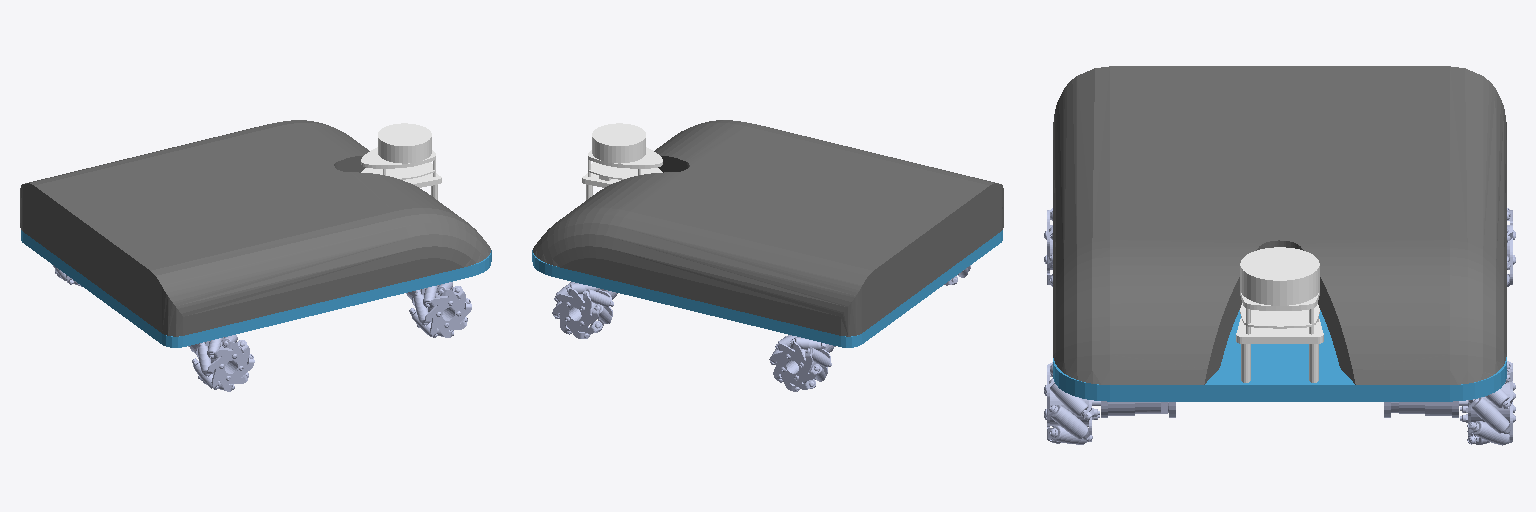
--- Facts derived from the render (not from the file) ---
The picture shows the robot from 3 angles, left to right: view 1: azimuth 30°, elevation 25°; view 2: azimuth 150°, elevation 25°; view 3: azimuth 270°, elevation 25°; orthographic projection.
Robot: rubot_mecanum — 19 links, 18 joints (4 continuous, 1 prismatic, 13 fixed); root link base_footprint; default pose: all joints at 0.
Links seen in each view (by area): view 1: Coberta_Link, base_link, Lidar_Link, R2_Link, R1_Link; view 2: Coberta_Link, base_link, Lidar_Link, L2_Link, L1_Link; view 3: Coberta_Link, base_link, Lidar_Link, L1_Link, R1_Link, SuportLidar_Link, MR1_Link, ML1_Link.
Boxes of the visible links, box(x1,y1,x2,y2) form: Coberta_Link: box(20, 120, 490, 336); base_link: box(21, 230, 491, 347); Lidar_Link: box(361, 123, 435, 179); R2_Link: box(192, 335, 254, 391); R1_Link: box(409, 282, 471, 337); Coberta_Link: box(533, 120, 1003, 336); base_link: box(532, 230, 1002, 347); Lidar_Link: box(588, 123, 662, 180); L2_Link: box(769, 335, 831, 391); L1_Link: box(552, 282, 613, 338); Coberta_Link: box(1053, 66, 1506, 384); base_link: box(1053, 310, 1506, 401); Lidar_Link: box(1240, 247, 1319, 334); L1_Link: box(1460, 361, 1515, 445); R1_Link: box(1044, 362, 1099, 444); SuportLidar_Link: box(1236, 318, 1323, 382); MR1_Link: box(1092, 400, 1168, 415); ML1_Link: box(1391, 400, 1467, 415).
Bounding box of the posed robot: 0.5 × 0.4155 × 0.1976 m (x, y, z).
Meshes: 18 distinct files referenced, 18 mesh visuals loaded (18 binary STL).

The robot description file, URDF, robot "rubot_mecanum":
<?xml version="1.0" encoding="utf-8"?>
<!-- This URDF was automatically created by SolidWorks to URDF Exporter! Originally created by Stephen Brawner ([email redacted]) 
     Commit Version: 1.6.0-1-g15f4949  Build Version: 1.6.7594.29634
     For more information, please see http://wiki.ros.org/sw_urdf_exporter -->
<robot name="rubot_mecanum">
  <link name="base_footprint"/>
  <joint name="base_link_joint" type="fixed">
    <origin rpy="0 0 0" xyz="0 0 0.05"/>
    <parent link="base_footprint"/>
    <child link="base_link"/>
  </joint>

  <link
    name="base_link">
    <inertial>
      <origin
        xyz="0.027358779894703 -0.0197603692535836 -0.100882644576948"
        rpy="0 0 0" />
      <mass
        value="3.18539354368186" />
      <inertia
        ixx="0.0106842818448098"
        ixy="-5.71916645986104E-18"
        ixz="-7.33657587264312E-18"
        iyy="0.0166285557560687"
        iyz="-1.02898300437928E-07"
        izz="0.0271752644394761" />
    </inertial>
    <visual>
      <origin
        xyz="0 0 0"
        rpy="0 0 0" />
      <geometry>
        <mesh
          filename="package://rubot_mecanum/meshes/base_link.STL" />
      </geometry>
      <material
        name="yellow"/>
    </visual>
    <collision>
      <origin
        xyz="0 0 0"
        rpy="0 0 0" />
      <geometry>
        <mesh
          filename="package://rubot_mecanum/meshes/base_link.STL" />
      </geometry>
    </collision>
  </link>
  <link
    name="R1_Link">
    <inertial>
      <origin
        xyz="-1.138E-15 -1.3878E-16 0.026605"
        rpy="0 0 0" />
      <mass
        value="0.10143" />
      <inertia
        ixx="1.7366E-05"
        ixy="9.2936E-18"
        ixz="-2.8624E-18"
        iyy="1.7366E-05"
        iyz="1.193E-17"
        izz="2.1022E-05" />
    </inertial>
    <visual>
      <origin
        xyz="0 0 0"
        rpy="0 0 0" />
      <geometry>
        <mesh
          filename="package://rubot_mecanum/meshes/R1_Link.STL" />
      </geometry>
      <material
        name="">
        <color
          rgba="0.79216 0.81961 0.93333 1" />
      </material>
    </visual>
    <collision>
      <origin
        xyz="0 0 0"
        rpy="0 0 0" />
      <geometry>
        <mesh
          filename="package://rubot_mecanum/meshes/R1_Link.STL" />
      </geometry>
    </collision>
  </link>
  <joint
    name="joint_R1"
    type="continuous">
    <origin
      xyz="0.19024 -0.17854 -0.15093"
      rpy="-1.5708 0.58045 3.1416" />
    <parent
      link="base_link" />
    <child
      link="R1_Link" />
    <axis
      xyz="0 0 1" />
  </joint>
  <link
    name="L1_Link">
    <inertial>
      <origin
        xyz="-2.91433543964104E-15 -3.02535774210355E-15 0.0266049351953702"
        rpy="0 0 0" />
      <mass
        value="0.101433683220293" />
      <inertia
        ixx="1.73656014589032E-05"
        ixy="1.22041565831584E-18"
        ixz="3.98859767479316E-18"
        iyy="1.73656014589116E-05"
        iyz="2.51536033083007E-18"
        izz="2.10216674226564E-05" />
    </inertial>
    <visual>
      <origin
        xyz="0 0 0"
        rpy="0 0 0" />
      <geometry>
        <mesh
          filename="package://rubot_mecanum/meshes/L1_Link.STL" />
      </geometry>
      <material
        name="">
        <color
          rgba="0.792156862745098 0.819607843137255 0.933333333333333 1" />
      </material>
    </visual>
    <collision>
      <origin
        xyz="0 0 0"
        rpy="0 0 0" />
      <geometry>
        <mesh
          filename="package://rubot_mecanum/meshes/L1_Link.STL" />
      </geometry>
    </collision>
  </link>
  <joint
    name="joint_L1"
    type="continuous">
    <origin
      xyz="0.19024 0.13902 -0.15093"
      rpy="-1.5708 1.5286 0" />
    <parent
      link="base_link" />
    <child
      link="L1_Link" />
    <axis
      xyz="0 0 1" />
  </joint>
  <link
    name="R2_Link">
    <inertial>
      <origin
        xyz="2.22044604925031E-15 -6.93889390390723E-16 0.0266049351956469"
        rpy="0 0 0" />
      <mass
        value="0.101433683215874" />
      <inertia
        ixx="1.73656014588276E-05"
        ixy="-3.60243112467254E-18"
        ixz="-9.16323392260164E-18"
        iyy="1.73656014588365E-05"
        iyz="2.27555013761854E-17"
        izz="2.10216674226847E-05" />
    </inertial>
    <visual>
      <origin
        xyz="0 0 0"
        rpy="0 0 0" />
      <geometry>
        <mesh
          filename="package://rubot_mecanum/meshes/R2_Link.STL" />
      </geometry>
      <material
        name="">
        <color
          rgba="0.792156862745098 0.819607843137255 0.933333333333333 1" />
      </material>
    </visual>
    <collision>
      <origin
        xyz="0 0 0"
        rpy="0 0 0" />
      <geometry>
        <mesh
          filename="package://rubot_mecanum/meshes/R2_Link.STL" />
      </geometry>
    </collision>
  </link>
  <joint
    name="joint_R2"
    type="continuous">
    <origin
      xyz="-0.13336 -0.17854 -0.15093"
      rpy="-1.5708 0.79452 3.1416" />
    <parent
      link="base_link" />
    <child
      link="R2_Link" />
    <axis
      xyz="0 0 1" />
  </joint>
  <link
    name="L2_Link">
    <inertial>
      <origin
        xyz="-2.77555756156289E-17 1.11022302462516E-16 0.0266049351954913"
        rpy="0 0 0" />
      <mass
        value="0.101433683216509" />
      <inertia
        ixx="1.73656014587943E-05"
        ixy="3.81842452622239E-18"
        ixz="-7.11348460007026E-18"
        iyy="1.73656014587947E-05"
        iyz="-8.24630865852679E-18"
        izz="2.10216674226438E-05" />
    </inertial>
    <visual>
      <origin
        xyz="0 0 0"
        rpy="0 0 0" />
      <geometry>
        <mesh
          filename="package://rubot_mecanum/meshes/L2_Link.STL" />
      </geometry>
      <material
        name="">
        <color
          rgba="0.792156862745098 0.819607843137255 0.933333333333333 1" />
      </material>
    </visual>
    <collision>
      <origin
        xyz="0 0 0"
        rpy="0 0 0" />
      <geometry>
        <mesh
          filename="package://rubot_mecanum/meshes/L2_Link.STL" />
      </geometry>
    </collision>
  </link>
  <joint
    name="joint_L2"
    type="continuous">
    <origin
      xyz="-0.13336 0.13902 -0.15093"
      rpy="1.5708 -1.2194 3.1416" />
    <parent
      link="base_link" />
    <child
      link="L2_Link" />
    <axis
      xyz="0 0 1" />
  </joint>
  <link
    name="SuportCentre1_Link">
    <inertial>
      <origin
        xyz="0.0185 0.0481538712864173 -0.0980000000000001"
        rpy="0 0 0" />
      <mass
        value="0.0536307879572357" />
      <inertia
        ixx="0.000239710306368585"
        ixy="5.09851701757735E-20"
        ixz="1.05872033629026E-11"
        iyy="0.000240795903477881"
        iyz="-3.79018546536177E-20"
        izz="1.14661974393378E-05" />
    </inertial>
    <visual>
      <origin
        xyz="0 0 0"
        rpy="0 0 0" />
      <geometry>
        <mesh
          filename="package://rubot_mecanum/meshes/SuportCentre1_Link.STL" />
      </geometry>
      <material
        name="">
        <color
          rgba="0.792156862745098 0.819607843137255 0.933333333333333 1" />
      </material>
    </visual>
    <collision>
      <origin
        xyz="0 0 0"
        rpy="0 0 0" />
      <geometry>
        <mesh
          filename="package://rubot_mecanum/meshes/SuportCentre1_Link.STL" />
      </geometry>
    </collision>
  </link>
  <joint
    name="joint_suportCentre1"
    type="fixed">
    <origin
      xyz="0.20874 0.07824 -0.16393"
      rpy="1.5708 0 3.1416" />
    <parent
      link="base_link" />
    <child
      link="SuportCentre1_Link" />
    <axis
      xyz="0 0 0" />
  </joint>
  <link
    name="SuportCentre2_Link">
    <inertial>
      <origin
        xyz="0.0185000000000001 0.048153871286417 -0.0979999999999997"
        rpy="0 0 0" />
      <mass
        value="0.0536307879572362" />
      <inertia
        ixx="0.000239710306368588"
        ixy="8.43076589416846E-20"
        ixz="1.05872033273468E-11"
        iyy="0.000240795903477884"
        iyz="3.99292166661122E-19"
        izz="1.14661974393382E-05" />
    </inertial>
    <visual>
      <origin
        xyz="0 0 0"
        rpy="0 0 0" />
      <geometry>
        <mesh
          filename="package://rubot_mecanum/meshes/SuportCentre2_Link.STL" />
      </geometry>
      <material
        name="">
        <color
          rgba="0.792156862745098 0.819607843137255 0.933333333333333 1" />
      </material>
    </visual>
    <collision>
      <origin
        xyz="0 0 0"
        rpy="0 0 0" />
      <geometry>
        <mesh
          filename="package://rubot_mecanum/meshes/SuportCentre2_Link.STL" />
      </geometry>
    </collision>
  </link>
  <joint
    name="joint_suportCentre"
    type="fixed">
    <origin
      xyz="-0.11486 0.07824 -0.16393"
      rpy="1.5708 0 3.1416" />
    <parent
      link="base_link" />
    <child
      link="SuportCentre2_Link" />
    <axis
      xyz="0 0 0" />
  </joint>
  <link
    name="Coberta_Link">
    <inertial>
      <origin
        xyz="-0.2191568641921 -0.0423023461352811 -0.200000853356191"
        rpy="0 0 0" />
      <mass
        value="6.86550905632035" />
      <inertia
        ixx="0.110082208729017"
        ixy="-0.00168399155962838"
        ixz="6.23787142038268E-08"
        iyy="0.247996405331257"
        iyz="1.67953107757833E-07"
        izz="0.143649899899849" />
    </inertial>
    <visual>
      <origin
        xyz="0 0 0"
        rpy="0 0 0" />
      <geometry>
        <mesh
          filename="package://rubot_mecanum/meshes/Coberta_Link.STL" />
      </geometry>
      <material
        name="">
        <color
          rgba="0.498039215686275 0.498039215686275 0.498039215686275 1" />
      </material>
    </visual>
    <collision>
      <origin
        xyz="0 0 0"
        rpy="0 0 0" />
      <geometry>
        <mesh
          filename="package://rubot_mecanum/meshes/Coberta_Link.STL" />
      </geometry>
    </collision>
  </link>
  <joint
    name="joint_coberta"
    type="prismatic">
    <origin
      xyz="-0.22156 0.18024 -0.0016623"
      rpy="1.5708 0 3.1416" />
    <parent
      link="base_link" />
    <child
      link="Coberta_Link" />
    <axis
      xyz="0 1 0" />
    <limit
      lower="0"
      upper="0"
      effort="0"
      velocity="0" />
  </joint>
  <link
    name="SuportR1_Link">
    <inertial>
      <origin
        xyz="0.0185 -0.00908262410146318 -0.0322712123132596"
        rpy="0 0 0" />
      <mass
        value="1.88293478703683E-14" />
      <inertia
        ixx="7.80328610267101E-18"
        ixy="-8.01367003990634E-33"
        ixz="-2.32382731560208E-33"
        iyy="5.41454279349707E-18"
        iyz="-2.19454525578505E-18"
        izz="6.51550874913411E-18" />
    </inertial>
    <visual>
      <origin
        xyz="0 0 0"
        rpy="0 0 0" />
      <geometry>
        <mesh
          filename="package://rubot_mecanum/meshes/SuportR1_Link.STL" />
      </geometry>
      <material
        name="">
        <color
          rgba="0.792156862745098 0.819607843137255 0.933333333333333 1" />
      </material>
    </visual>
    <collision>
      <origin
        xyz="0 0 0"
        rpy="0 0 0" />
      <geometry>
        <mesh
          filename="package://rubot_mecanum/meshes/SuportR1_Link.STL" />
      </geometry>
    </collision>
  </link>
  <joint
    name="joint_suportR1"
    type="fixed">
    <origin
      xyz="0.20874 -0.13251 -0.11493"
      rpy="1.5708 0 3.1416" />
    <parent
      link="base_link" />
    <child
      link="SuportR1_Link" />
    <axis
      xyz="0 0 0" />
  </joint>
  <link
    name="SuportL1_Link">
    <inertial>
      <origin
        xyz="0.0185 -0.00908262410146315 -0.0322712123132596"
        rpy="0 0 0" />
      <mass
        value="1.88293478703682E-14" />
      <inertia
        ixx="7.803286102671E-18"
        ixy="3.0959833975071E-33"
        ixz="2.02097825736474E-33"
        iyy="5.41454279349707E-18"
        iyz="-2.19454525578505E-18"
        izz="6.51550874913411E-18" />
    </inertial>
    <visual>
      <origin
        xyz="0 0 0"
        rpy="0 0 0" />
      <geometry>
        <mesh
          filename="package://rubot_mecanum/meshes/SuportL1_Link.STL" />
      </geometry>
      <material
        name="">
        <color
          rgba="0.792156862745098 0.819607843137255 0.933333333333333 1" />
      </material>
    </visual>
    <collision>
      <origin
        xyz="0 0 0"
        rpy="0 0 0" />
      <geometry>
        <mesh
          filename="package://rubot_mecanum/meshes/SuportL1_Link.STL" />
      </geometry>
    </collision>
  </link>
  <joint
    name="joint_suportL1"
    type="fixed">
    <origin
      xyz="0.17174 0.09299 -0.11493"
      rpy="1.5708 0 0" />
    <parent
      link="base_link" />
    <child
      link="SuportL1_Link" />
    <axis
      xyz="0 0 0" />
  </joint>
  <link
    name="SuportR2_Link">
    <inertial>
      <origin
        xyz="0.0185 -0.00908262410146317 -0.0322712123132596"
        rpy="0 0 0" />
      <mass
        value="1.88293478703683E-14" />
      <inertia
        ixx="7.80328610267102E-18"
        ixy="-1.76860129033217E-33"
        ixz="2.50608713016688E-35"
        iyy="5.41454279349707E-18"
        iyz="-2.19454525578505E-18"
        izz="6.51550874913413E-18" />
    </inertial>
    <visual>
      <origin
        xyz="0 0 0"
        rpy="0 0 0" />
      <geometry>
        <mesh
          filename="package://rubot_mecanum/meshes/SuportR2_Link.STL" />
      </geometry>
      <material
        name="">
        <color
          rgba="0.792156862745098 0.819607843137255 0.933333333333333 1" />
      </material>
    </visual>
    <collision>
      <origin
        xyz="0 0 0"
        rpy="0 0 0" />
      <geometry>
        <mesh
          filename="package://rubot_mecanum/meshes/SuportR2_Link.STL" />
      </geometry>
    </collision>
  </link>
  <joint
    name="joint_suportR2"
    type="fixed">
    <origin
      xyz="-0.11486 -0.13251 -0.11493"
      rpy="1.5708 0 3.1416" />
    <parent
      link="base_link" />
    <child
      link="SuportR2_Link" />
    <axis
      xyz="0 0 0" />
  </joint>
  <link
    name="SuportL2_Link">
    <inertial>
      <origin
        xyz="0.0185 -0.00908262410146314 -0.0322712123132596"
        rpy="0 0 0" />
      <mass
        value="1.88293478703682E-14" />
      <inertia
        ixx="7.80328610267099E-18"
        ixy="4.46479051046065E-33"
        ixz="7.28647099128006E-33"
        iyy="5.41454279349706E-18"
        iyz="-2.19454525578504E-18"
        izz="6.5155087491341E-18" />
    </inertial>
    <visual>
      <origin
        xyz="0 0 0"
        rpy="0 0 0" />
      <geometry>
        <mesh
          filename="package://rubot_mecanum/meshes/SuportL2_Link.STL" />
      </geometry>
      <material
        name="">
        <color
          rgba="0.792156862745098 0.819607843137255 0.933333333333333 1" />
      </material>
    </visual>
    <collision>
      <origin
        xyz="0 0 0"
        rpy="0 0 0" />
      <geometry>
        <mesh
          filename="package://rubot_mecanum/meshes/SuportL2_Link.STL" />
      </geometry>
    </collision>
  </link>
  <joint
    name="joint_suportL2"
    type="fixed">
    <origin
      xyz="-0.15186 0.09299 -0.11493"
      rpy="1.5708 0 0" />
    <parent
      link="base_link" />
    <child
      link="SuportL2_Link" />
    <axis
      xyz="0 0 0" />
  </joint>
  <link
    name="MR1_Link">
    <inertial>
      <origin
        xyz="0.000125294788847569 0.000150084868448225 -0.0323957923521485"
        rpy="0 0 0" />
      <mass
        value="0.0568898396886143" />
      <inertia
        ixx="2.16430504132729E-05"
        ixy="7.24126643727964E-10"
        ixz="-1.5609549027946E-07"
        iyy="2.17113865023018E-05"
        iyz="1.74927784904528E-07"
        izz="8.51339721047066E-06" />
    </inertial>
    <visual>
      <origin
        xyz="0 0 0"
        rpy="0 0 0" />
      <geometry>
        <mesh
          filename="package://rubot_mecanum/meshes/MR1_Link.STL" />
      </geometry>
      <material
        name="">
        <color
          rgba="0.792156862745098 0.819607843137255 0.933333333333333 1" />
      </material>
    </visual>
    <collision>
      <origin
        xyz="0 0 0"
        rpy="0 0 0" />
      <geometry>
        <mesh
          filename="package://rubot_mecanum/meshes/MR1_Link.STL" />
      </geometry>
    </collision>
  </link>
  <joint
    name="joint_MR1"
    type="fixed">
    <origin
      xyz="0.19024 -0.11131 -0.14393"
      rpy="-1.5708 0 0" />
    <parent
      link="base_link" />
    <child
      link="MR1_Link" />
    <axis
      xyz="0 0 0" />
  </joint>
  <link
    name="ML1_Link">
    <inertial>
      <origin
        xyz="0.000125294788847624 0.00015008486844828 -0.0323957923521486"
        rpy="0 0 0" />
      <mass
        value="0.0568898396886143" />
      <inertia
        ixx="2.16430504132729E-05"
        ixy="7.24126643729239E-10"
        ixz="-1.56095490279456E-07"
        iyy="2.17113865023019E-05"
        iyz="1.74927784904539E-07"
        izz="8.51339721047067E-06" />
    </inertial>
    <visual>
      <origin
        xyz="0 0 0"
        rpy="0 0 0" />
      <geometry>
        <mesh
          filename="package://rubot_mecanum/meshes/ML1_Link.STL" />
      </geometry>
      <material
        name="">
        <color
          rgba="0.792156862745098 0.819607843137255 0.933333333333333 1" />
      </material>
    </visual>
    <collision>
      <origin
        xyz="0 0 0"
        rpy="0 0 0" />
      <geometry>
        <mesh
          filename="package://rubot_mecanum/meshes/ML1_Link.STL" />
      </geometry>
    </collision>
  </link>
  <joint
    name="joint_ML1"
    type="fixed">
    <origin
      xyz="0.19024 0.07179 -0.14393"
      rpy="-1.5708 0 3.1416" />
    <parent
      link="base_link" />
    <child
      link="ML1_Link" />
    <axis
      xyz="0 0 0" />
  </joint>
  <link
    name="MR2_Link">
    <inertial>
      <origin
        xyz="0.000125294788847541 0.00015008486844828 -0.0323957923521486"
        rpy="0 0 0" />
      <mass
        value="0.0568898396886143" />
      <inertia
        ixx="2.16430504132729E-05"
        ixy="7.24126643728097E-10"
        ixz="-1.56095490279478E-07"
        iyy="2.17113865023018E-05"
        iyz="1.74927784904533E-07"
        izz="8.51339721047066E-06" />
    </inertial>
    <visual>
      <origin
        xyz="0 0 0"
        rpy="0 0 0" />
      <geometry>
        <mesh
          filename="package://rubot_mecanum/meshes/MR2_Link.STL" />
      </geometry>
      <material
        name="">
        <color
          rgba="0.792156862745098 0.819607843137255 0.933333333333333 1" />
      </material>
    </visual>
    <collision>
      <origin
        xyz="0 0 0"
        rpy="0 0 0" />
      <geometry>
        <mesh
          filename="package://rubot_mecanum/meshes/MR2_Link.STL" />
      </geometry>
    </collision>
  </link>
  <joint
    name="joint_MR2"
    type="fixed">
    <origin
      xyz="-0.13336 -0.11131 -0.14393"
      rpy="-1.5708 0 0" />
    <parent
      link="base_link" />
    <child
      link="MR2_Link" />
    <axis
      xyz="0 0 0" />
  </joint>
  <link
    name="ML2_Link">
    <inertial>
      <origin
        xyz="0.000125294788847624 0.000150084868448308 -0.0323957923521486"
        rpy="0 0 0" />
      <mass
        value="0.0568898396886143" />
      <inertia
        ixx="2.16430504132729E-05"
        ixy="7.24126643728438E-10"
        ixz="-1.56095490279455E-07"
        iyy="2.17113865023018E-05"
        iyz="1.74927784904533E-07"
        izz="8.51339721047066E-06" />
    </inertial>
    <visual>
      <origin
        xyz="0 0 0"
        rpy="0 0 0" />
      <geometry>
        <mesh
          filename="package://rubot_mecanum/meshes/ML2_Link.STL" />
      </geometry>
      <material
        name="">
        <color
          rgba="0.792156862745098 0.819607843137255 0.933333333333333 1" />
      </material>
    </visual>
    <collision>
      <origin
        xyz="0 0 0"
        rpy="0 0 0" />
      <geometry>
        <mesh
          filename="package://rubot_mecanum/meshes/ML2_Link.STL" />
      </geometry>
    </collision>
  </link>
  <joint
    name="joint_ML2"
    type="fixed">
    <origin
      xyz="-0.13336 0.07179 -0.14393"
      rpy="-1.5708 0 3.1416" />
    <parent
      link="base_link" />
    <child
      link="ML2_Link" />
    <axis
      xyz="0 0 0" />
  </joint>
  <link
    name="SuportLidar_Link">
    <inertial>
      <origin
        xyz="-2.08492539739702E-07 0.0609835303237017 -0.000258664711631357"
        rpy="0 0 0" />
      <mass
        value="0.0564547441810421" />
      <inertia
        ixx="6.8579601402247E-05"
        ixy="3.70475771580666E-11"
        ixz="6.67840319699474E-10"
        iyy="8.65277926510307E-05"
        iyz="-1.31273057631923E-06"
        izz="2.59150144946133E-05" />
    </inertial>
    <visual>
      <origin
        xyz="0 0 0"
        rpy="0 0 0" />
      <geometry>
        <mesh
          filename="package://rubot_mecanum/meshes/SuportLidar_Link.STL" />
      </geometry>
      <material
        name="">
        <color
          rgba="1 1 1 1" />
      </material>
    </visual>
    <collision>
      <origin
        xyz="0 0 0"
        rpy="0 0 0" />
      <geometry>
        <mesh
          filename="package://rubot_mecanum/meshes/SuportLidar_Link.STL" />
      </geometry>
    </collision>
  </link>
  <joint
    name="joint_SuportLidar"
    type="fixed">
    <origin
      xyz="0.22761 -0.01976 -0.11283"
      rpy="1.5708 0 -1.5708" />
    <parent
      link="base_link" />
    <child
      link="SuportLidar_Link" />
    <axis
      xyz="0 0 0" />
  </joint>
  <link
    name="Lidar_Link">
    <inertial>
      <origin
        xyz="0 0 0"
        rpy="0 0 0" />
      <mass
        value="0" />
      <inertia
        ixx="0"
        ixy="0"
        ixz="0"
        iyy="0"
        iyz="0"
        izz="0" />
    </inertial>
    <visual>
      <origin
        xyz="0 0 0"
        rpy="0 0 0" />
      <geometry>
        <mesh
          filename="package://rubot_mecanum/meshes/Lidar_Link.STL" />
      </geometry>
      <material
        name="">
        <color
          rgba="1 1 1 1" />
      </material>
    </visual>
    <collision>
      <origin
        xyz="0 0 0"
        rpy="0 0 0" />
      <geometry>
        <mesh
          filename="package://rubot_mecanum/meshes/Lidar_Link.STL" />
      </geometry>
    </collision>
  </link>
  <joint
    name="joint_lidar"
    type="fixed">
    <origin
      xyz="0.243440986234762 -0.019760369253584 0.00866735542305185"
      rpy="1.5707963267949 0 -1.5707963267949" />
    <parent
      link="base_link" />
    <child
      link="Lidar_Link" />
    <axis
      xyz="0 0 0" />
  </joint>
  <!-- All static links get collapsed down to base_link in Gazebo, so that's
       the one to apply the colour to (in Gazebo 5+). -->
  <gazebo reference="base_link">
    <material>Gazebo/Orange</material>
    <gravity>true</gravity>
  </gazebo>
  <gazebo reference="R1_link">
    <material>Gazebo/Black</material>
    <mu1>0.0</mu1>
    <mu2>0.0</mu2>
  </gazebo>
  <gazebo reference="L1_link">
    <material>Gazebo/Black</material>
    <mu1>0.0</mu1>
    <mu2>0.0</mu2>
  </gazebo>
  <gazebo reference="R2_link">
    <material>Gazebo/Black</material>
    <mu1>0.0</mu1>
    <mu2>0.0</mu2>
  </gazebo>
  <gazebo reference="L2_link">
    <material>Gazebo/Black</material>
    <mu1>0.0</mu1>
    <mu2>0.0</mu2>
  </gazebo>
  <gazebo reference="SuportCentre1_Link">
    <material>Gazebo/Black</material>
    <gravity>true</gravity>
  </gazebo>
  <gazebo reference="SuportCentre2_Link">
    <material>Gazebo/Black</material>
    <gravity>true</gravity>
  </gazebo>
  <gazebo reference="Coberta_Link">
    <material>Gazebo/DarkGrey</material>
    <gravity>true</gravity>
  </gazebo>
  <gazebo reference="SuportR1_Link">
    <material>Gazebo/Black</material>
    <gravity>true</gravity>
  </gazebo>
  <gazebo reference="SuportL1_Link">
    <material>Gazebo/Black</material>
    <gravity>true</gravity>
  </gazebo>
  <gazebo reference="SuportR2_Link">
    <material>Gazebo/Black</material>
    <gravity>true</gravity>
  </gazebo>
  <gazebo reference="SuportL2_Link">
    <material>Gazebo/Black</material>
    <gravity>true</gravity>
  </gazebo>
  <gazebo reference="MR1_Link">
    <material>Gazebo/Grey</material>
    <gravity>true</gravity>
  </gazebo>
  <gazebo reference="ML1_Link">
    <material>Gazebo/Grey</material>
    <gravity>true</gravity>
  </gazebo>
  <gazebo reference="MR2_Link">
    <material>Gazebo/Grey</material>
    <gravity>true</gravity>
  </gazebo>
  <gazebo reference="ML2_Link">
    <material>Gazebo/Grey</material>
    <gravity>true</gravity>
  </gazebo>
  <gazebo reference="SuportLidar_Link">
    <material>Gazebo/White</material>
    <gravity>true</gravity>
  </gazebo>
  <gazebo reference="Lidar_Link">
    <material>Gazebo/Black</material>
    <gravity>true</gravity>
  </gazebo>
  <!-- Mecanum drive controller -->
  <gazebo>
    <plugin name="Mecanum_controller" filename="libgazebo_ros_planar_move.so">
      <commandTopic>cmd_vel</commandTopic>
      <odometryTopic>odom</odometryTopic>
      <odometryFrame>odom</odometryFrame>
      <odometryRate>50.0</odometryRate>
      <robotBaseFrame>base_footprint</robotBaseFrame>
    </plugin>
  </gazebo>
    <!-- 2D Camera controller -->
    <gazebo reference="camera">
      <sensor type="camera" name="camera1">
        <update_rate>30.0</update_rate>
        <camera name="front">
          <horizontal_fov>1.3962634</horizontal_fov>
          <image>
            <width>800</width>
            <height>800</height>
            <format>R8G8B8</format>
          </image>
          <clip>
            <near>0.02</near>
            <far>300</far>
          </clip>
        </camera>
        <plugin name="camera_controller" filename="libgazebo_ros_camera.so">
          <alwaysOn>true</alwaysOn>
          <updateRate>0.0</updateRate>
          <cameraName>rubot/camera1</cameraName>
          <imageTopicName>image_raw</imageTopicName>
          <cameraInfoTopicName>camera_info</cameraInfoTopicName>
          <frameName>camera</frameName>
          <hackBaseline>0.07</hackBaseline>
          <distortionK1>0.0</distortionK1>
          <distortionK2>0.0</distortionK2>
          <distortionK3>0.0</distortionK3>
          <distortionT1>0.0</distortionT1>
          <distortionT2>0.0</distortionT2>
        </plugin>
      </sensor>
    </gazebo>
  
    <!-- Laser Distance Sensor YDLIDAR X4 controller-->
    <gazebo reference="Lidar_Link">
      <sensor type="ray" name="lds_lfcd_sensor">
        <pose>0 0 0 0 0 0</pose>
        <visualize>false</visualize>
        <update_rate>5</update_rate>
        <ray>
          <scan>
            <horizontal>
              <samples>720</samples>
              <resolution>0.5</resolution>
              <min_angle>0.0</min_angle>
              <max_angle>6.28319</max_angle>
            </horizontal>
          </scan>
          <range>
            <min>0.12</min>
            <max>10</max>
            <resolution>0.015</resolution>
          </range>
          <noise>
            <type>gaussian</type>
            <!-- Noise parameters based on published spec for YDLIDAR X4
                is 1.5% at half range 4m (= 60mm, "+-160mm" accuracy at max. range 8m).
                A mean of 0.0m and stddev of 0.020m will put 99.7% of samples
                within 0.16m of the true reading. -->
            <mean>0.0</mean>
            <stddev>0.02</stddev>
          </noise>
        </ray>
        <plugin name="gazebo_ros_lds_lfcd_controller" filename="libgazebo_ros_laser.so">
          <!-- topicName>/gopigo/scan</topicName -->
          <topicName>scan</topicName>
          <frameName>Lidar_Link</frameName>
        </plugin>
      </sensor>
    </gazebo>
</robot>
